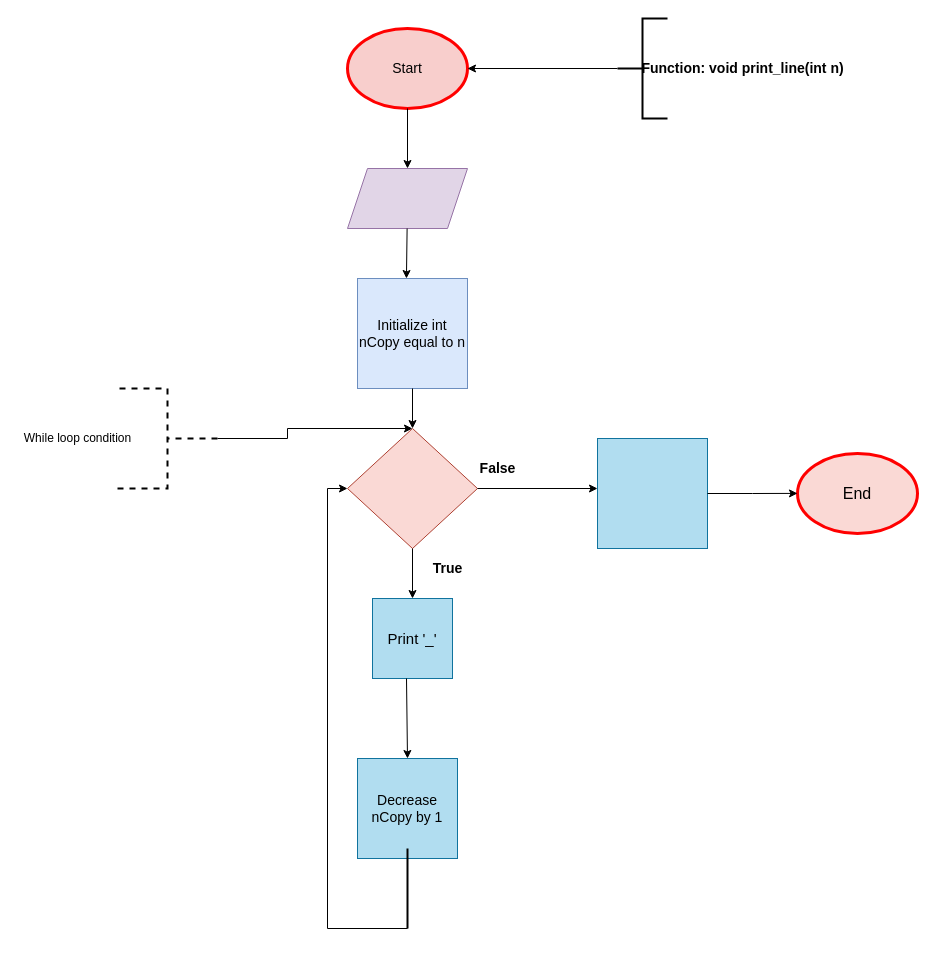
Some shapes in this 944 by 954 pixel diagram are drawn without their labels. Each missing label, with the box of its shape:
Input: int n: (346, 168, 468, 228)
Is nCopy > 0?: (346, 428, 478, 548)
Print \n: (596, 438, 708, 548)
